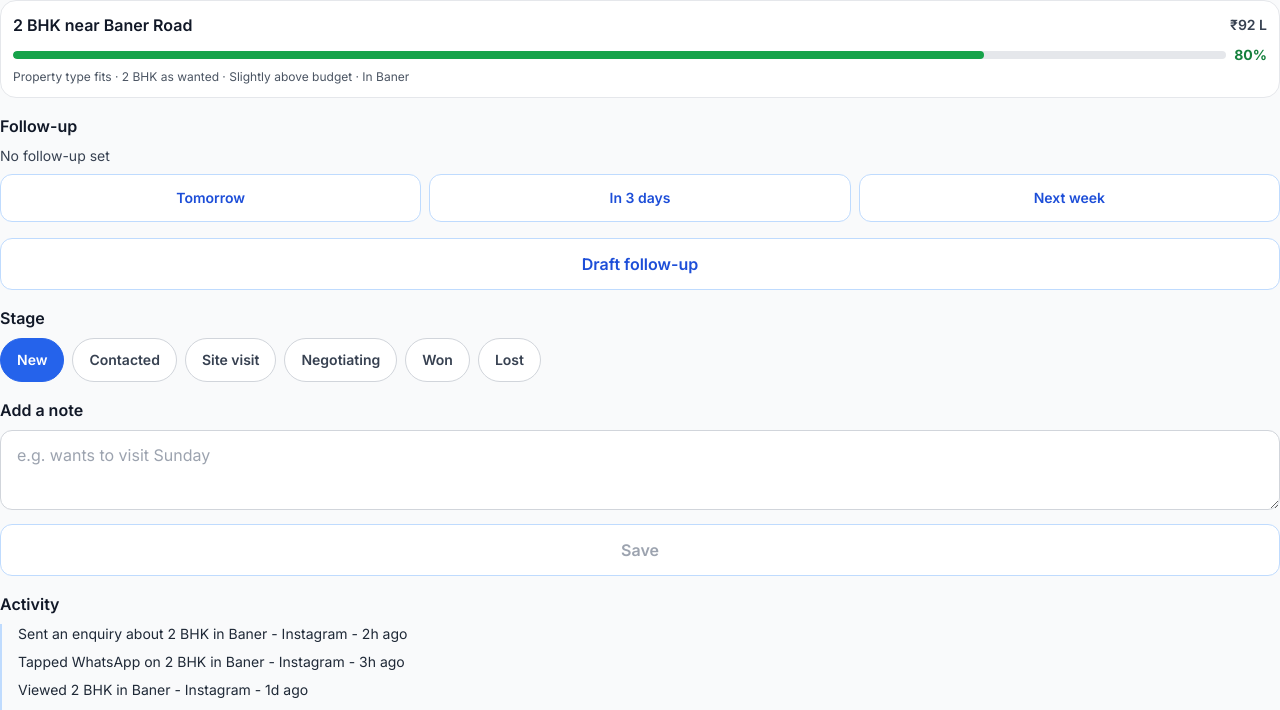
Test: Deal closed sheet (stage Won) › does not save a price it cannot read, and says so
(page scrolled)
Click the button "Won": (438, 360) x1=405 y1=338 x2=470 y2=382
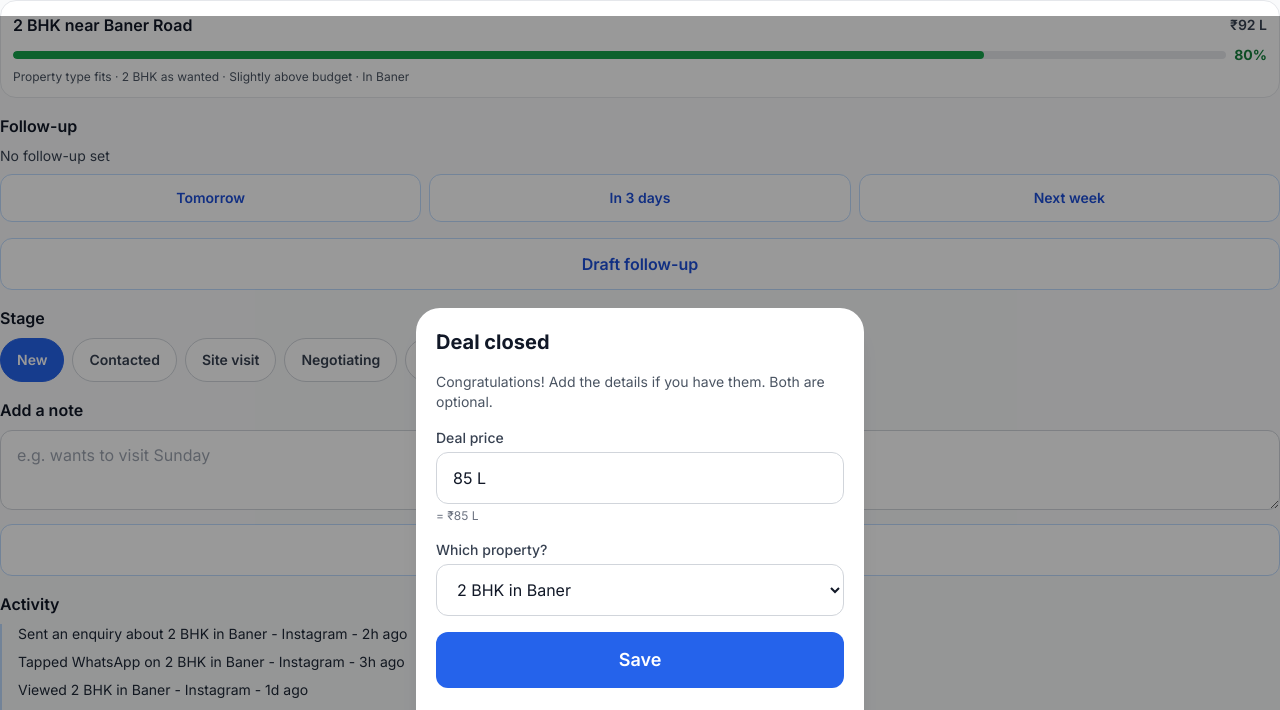
Replace the text in the field labelled "Deal price" with "about eighty": (640, 478) x1=436 y1=452 x2=844 y2=504
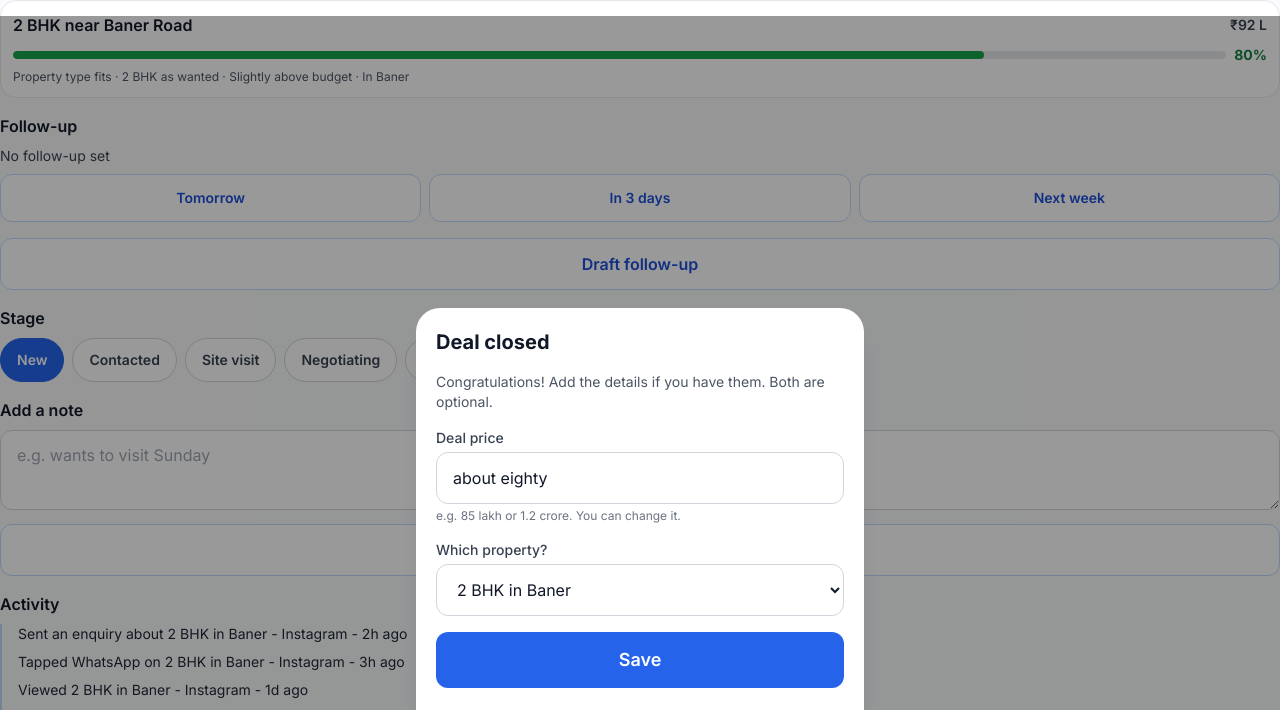
Click the button "Save": (640, 660) x1=436 y1=632 x2=844 y2=688
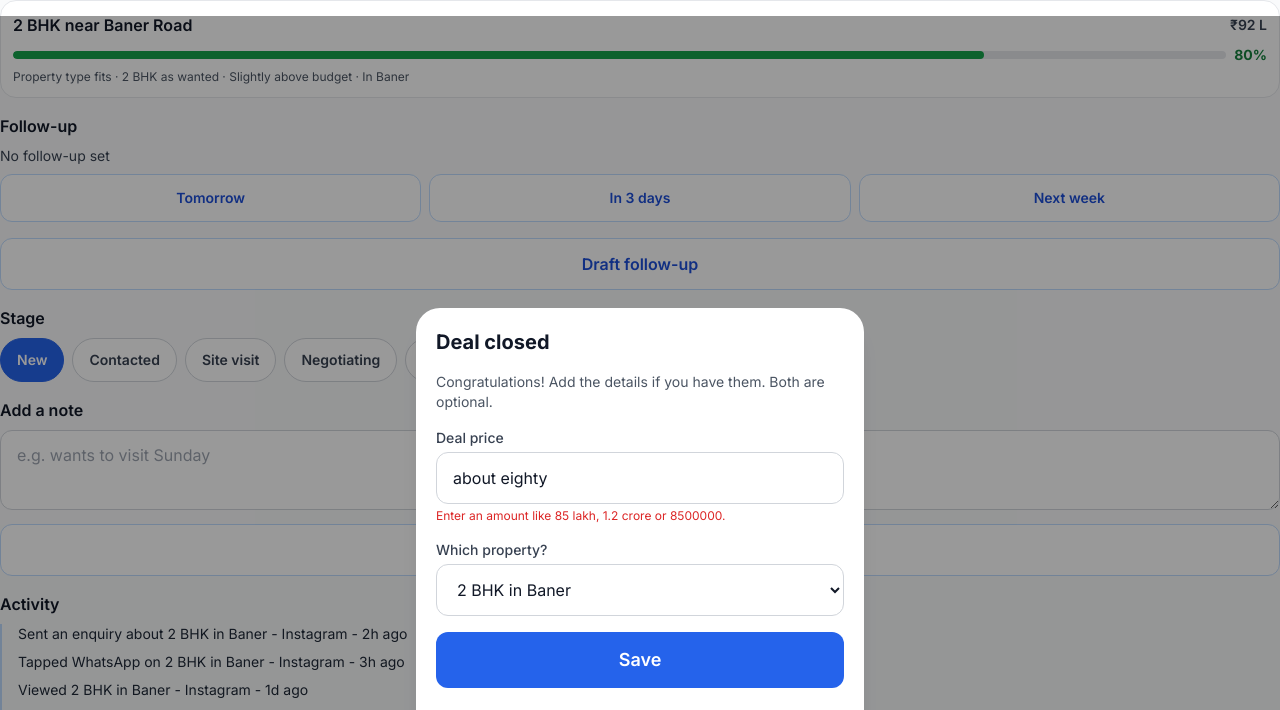
Expected: the message shows "Enter an amount like 85 lakh", x1=436 y1=508 x2=725 y2=523
Replace the text in the field labelled "Deal price" with "0": (640, 478) x1=436 y1=452 x2=844 y2=504
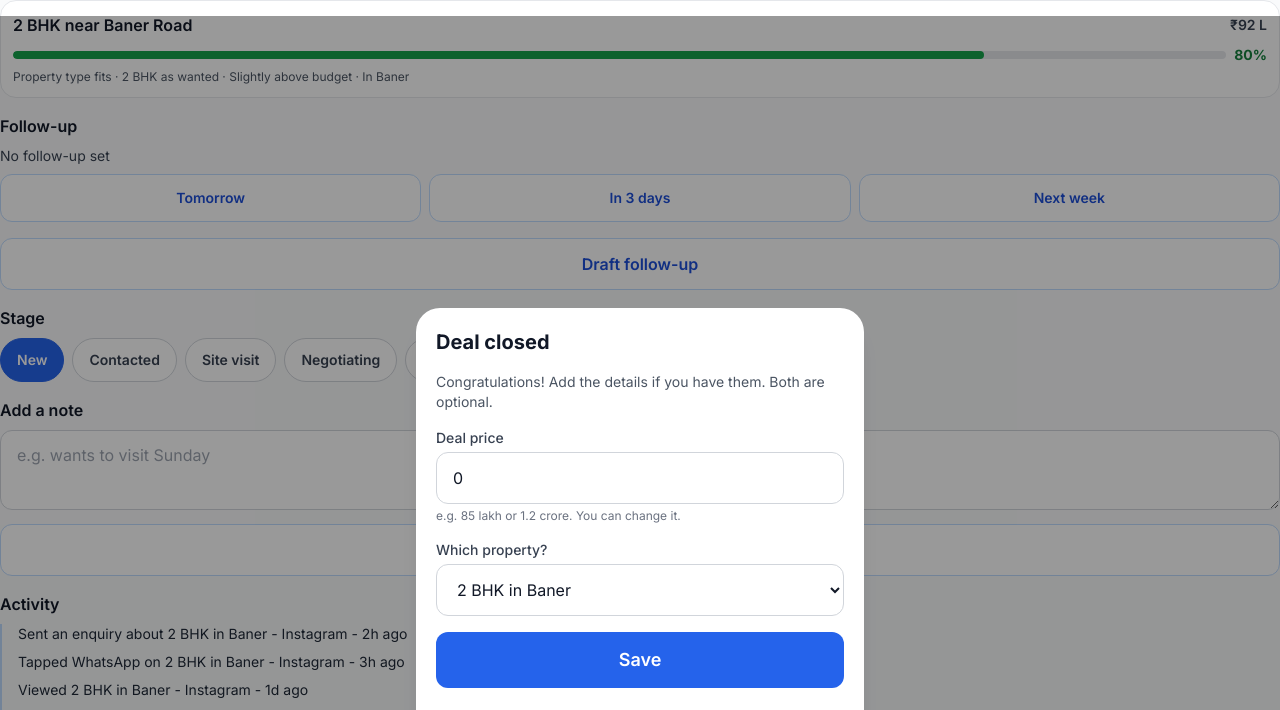
Click the button "Save": (640, 660) x1=436 y1=632 x2=844 y2=688
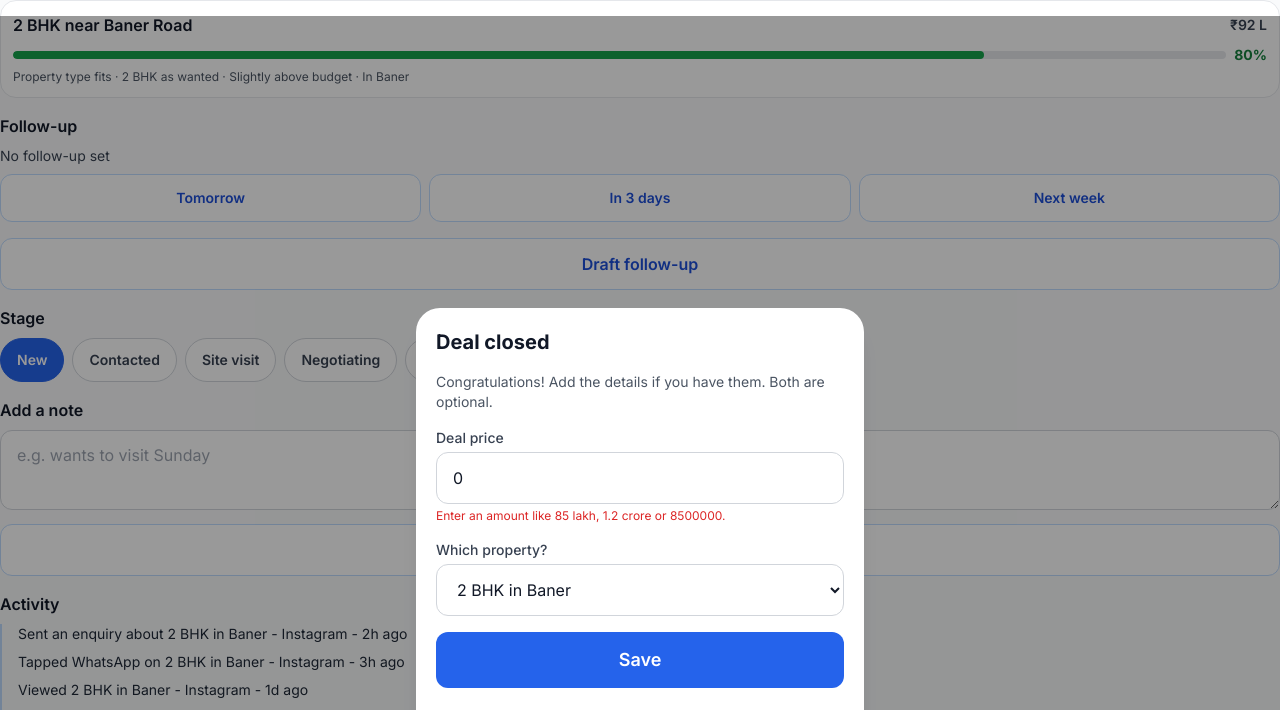
Expected: the message "Enter an amount like 85 lakh, 1.2 crore or 8500000." is shown, x1=436 y1=508 x2=725 y2=523
